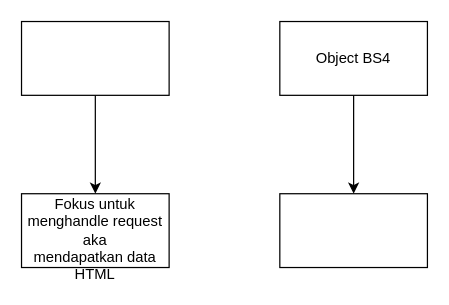
This 449x305 diagram has some shape labels left out. The centre of each missing label's shape, as x and y in pixels:
"Menghandle pencarian berita dari data HTML objek request" goes at [353,230].
"Object requestnya sendiri" goes at [94,57].
